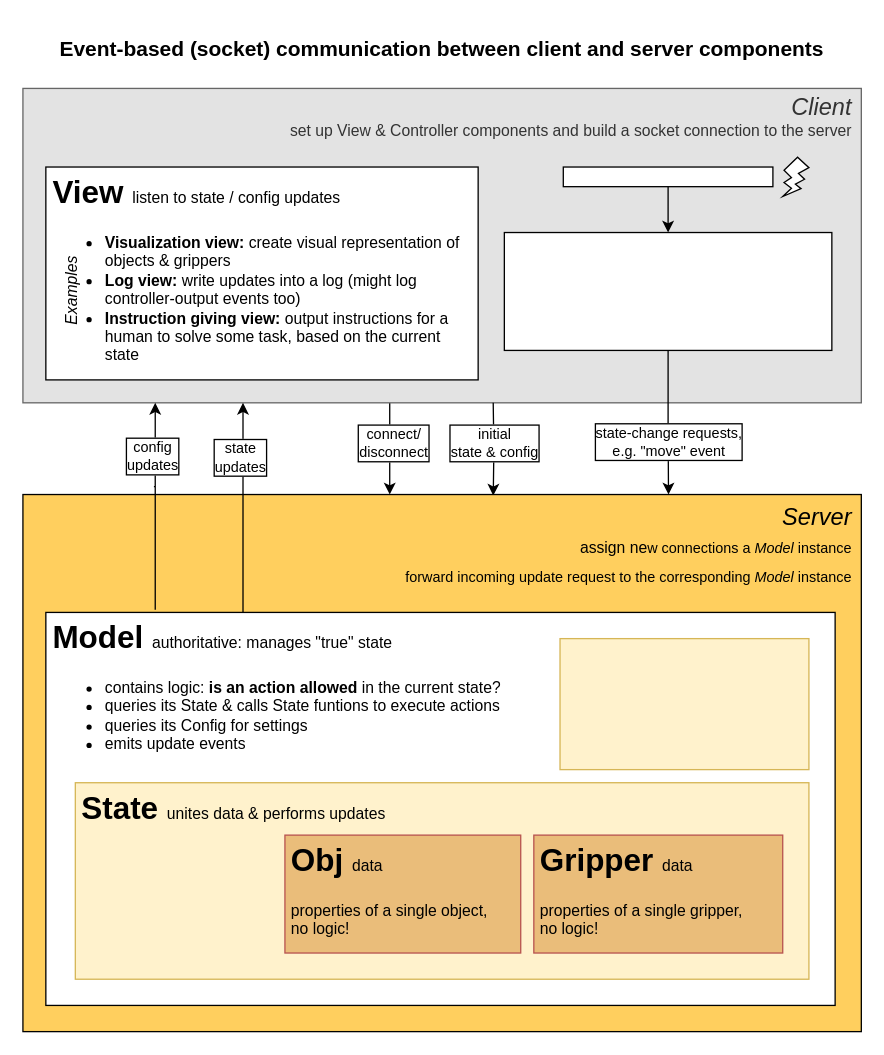
Some shapes in this 884 by 1055 pixel diagram are drawn without their labels. The centre of each missing label's shape, as x and y in pixels:
"Config settings (e.g. allowed actions, action modifiers, interface dimensions)" belongs at (x=684, y=703).
"Controller map user events to GOLMI even ts, usually gripper actions" belongs at (x=667, y=290).
"user events, e.g. key strokes" belongs at (x=667, y=176).
